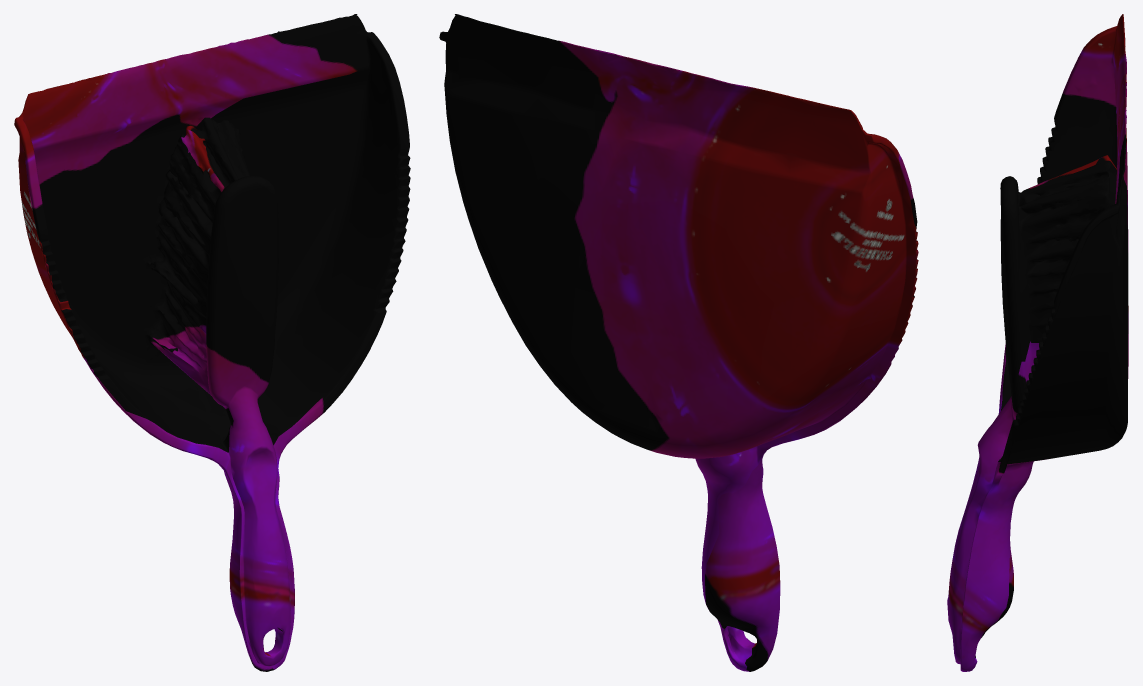
The picture shows the model from 3 angles, left to right: view 1: azimuth 30°, elevation 25°; view 2: azimuth 150°, elevation 25°; view 3: azimuth 270°, elevation 25°; orthographic projection. The views are drawn at different scales.
Parts seen in each view (by area): view 1: model.003; view 2: model.003; view 3: model.003.
Boxes of the visible parts, x1,y1,x2,y2 form: model.003: (14, 14, 410, 671); model.003: (439, 14, 918, 671); model.003: (947, 14, 1128, 671).
Size of the model in its own units: 0.2308 by 0.3307 by 0.0946.
